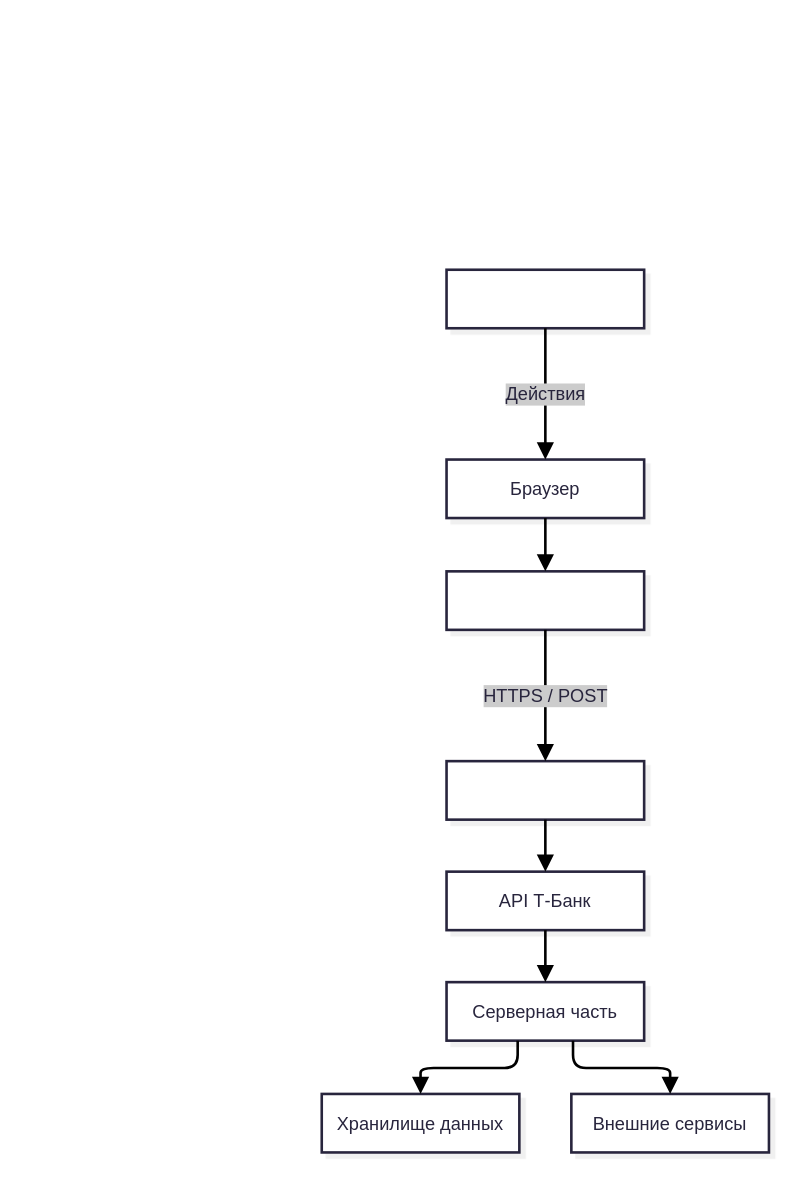
The diagram is 797 pixels wide and 1180 high, and some of its shapes have lost their labels. The centre of each missing label's shape, as x and y in pixels:
Интерфейс Т-Банк: pixel 547 602
Клиентская часть: pixel 547 792
Пользователь: pixel 547 301
